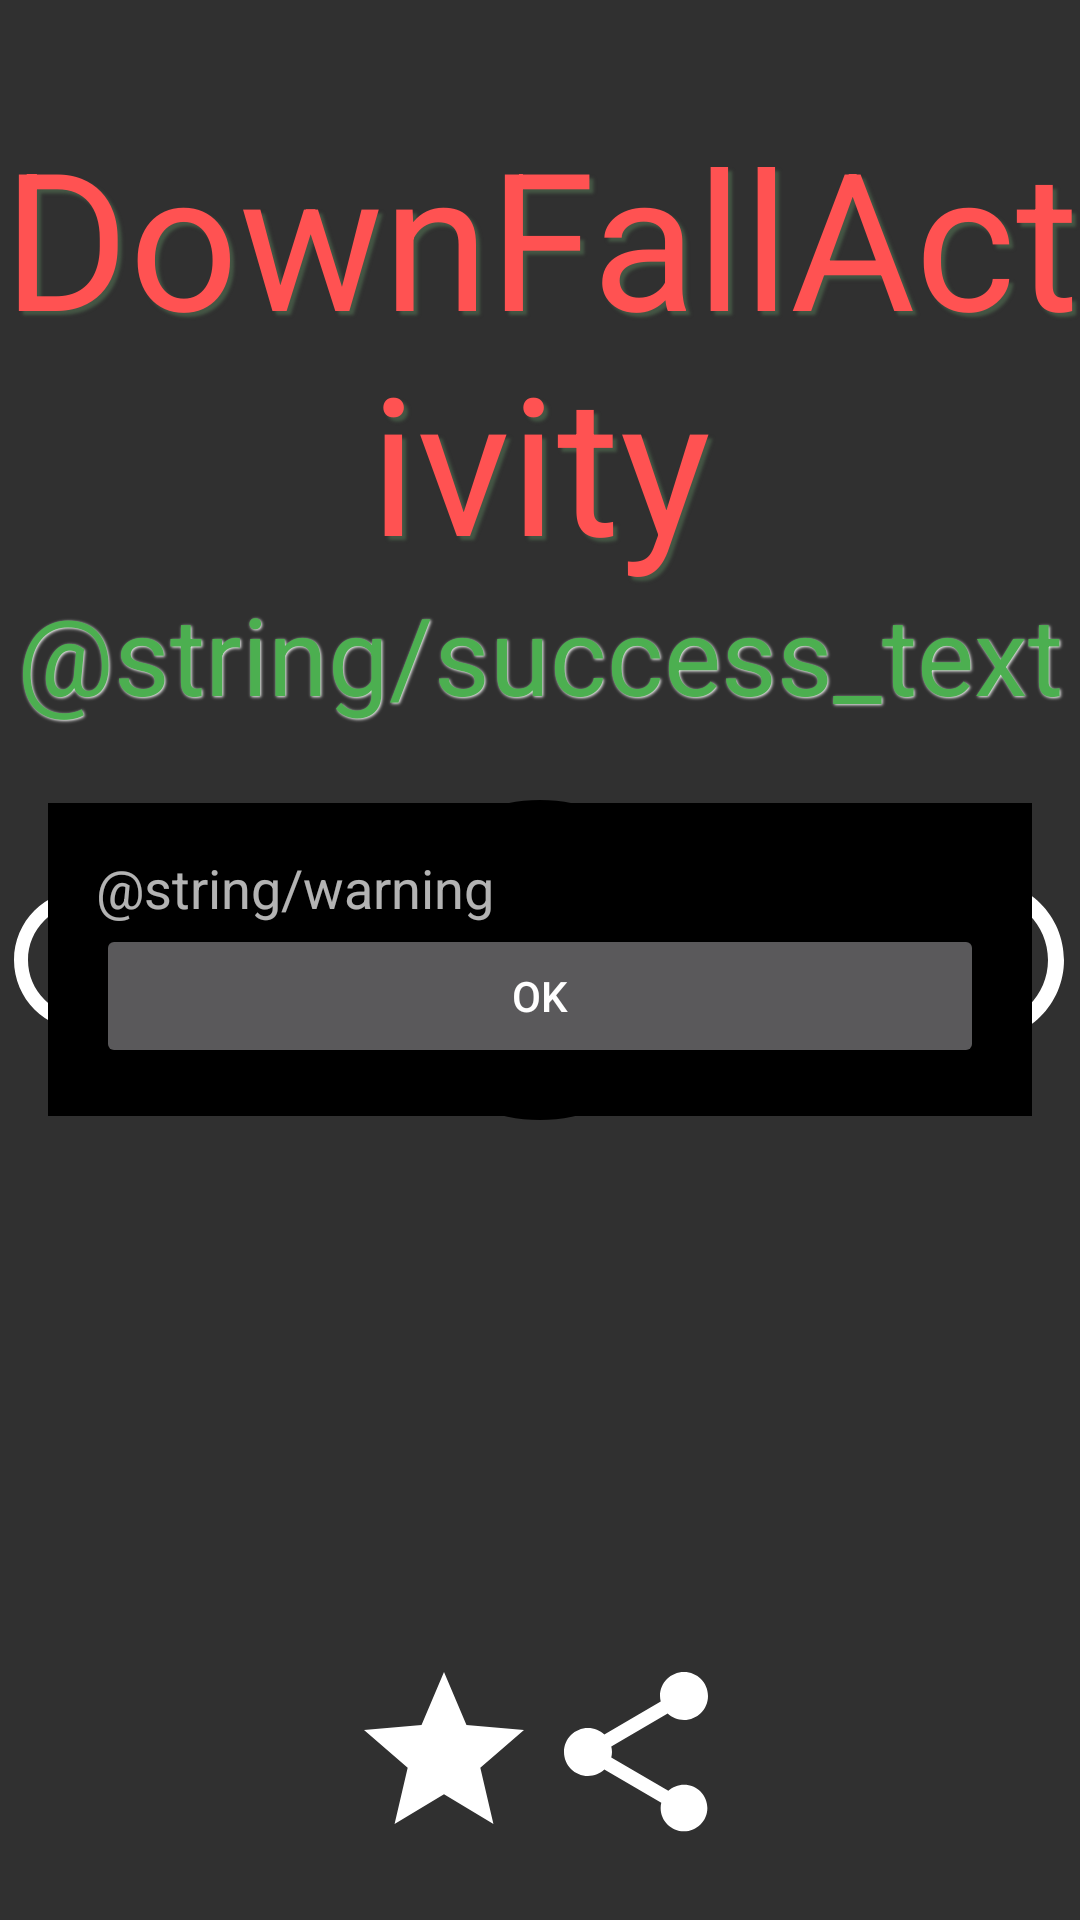

Screen size 1080w x 1920h. Icon name, then its center in pixels as point (x, y):
rating: point (444, 1748)
share: point (636, 1752)
